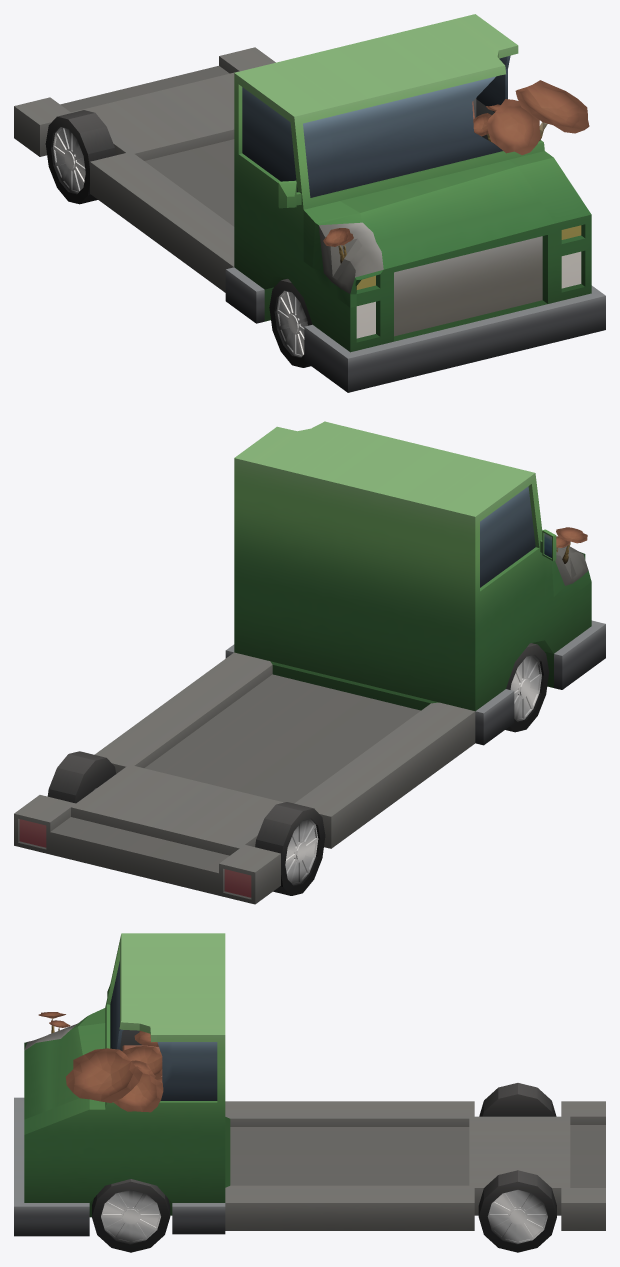
Rendered from Truck_Infested_Truck_01.fbx.
3 views of the same model, one above another, from view 1: azimuth 30°, elevation 25°; view 2: azimuth 150°, elevation 25°; view 3: azimuth 270°, elevation 25° (orthographic). The views are drawn at different scales.
Parts seen in each view (by area): view 1: pCube154; view 2: pCube154; view 3: pCube154.
Part boxes in pixels (<box>): pCube154: <box>14,14,605,392</box>; pCube154: <box>14,421,605,904</box>; pCube154: <box>14,933,605,1252</box>.
Size of the model in its own units: 294 by 233 by 572.
